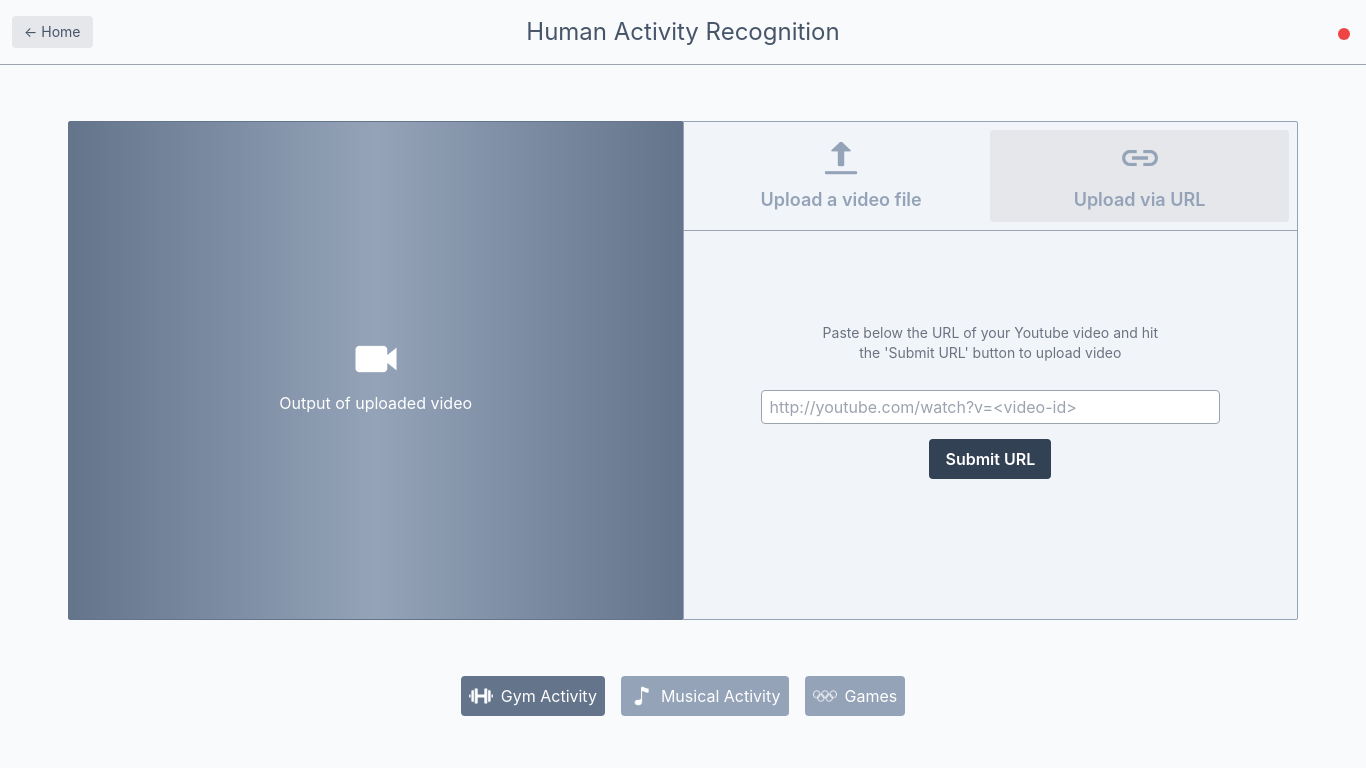
Test: Integration testing of render components › empty input in URL
What coordinates should you click on to do the following:
click the button "Submit URL"
I would click on:
 (990, 459)
Its box is [930,439,1051,479].
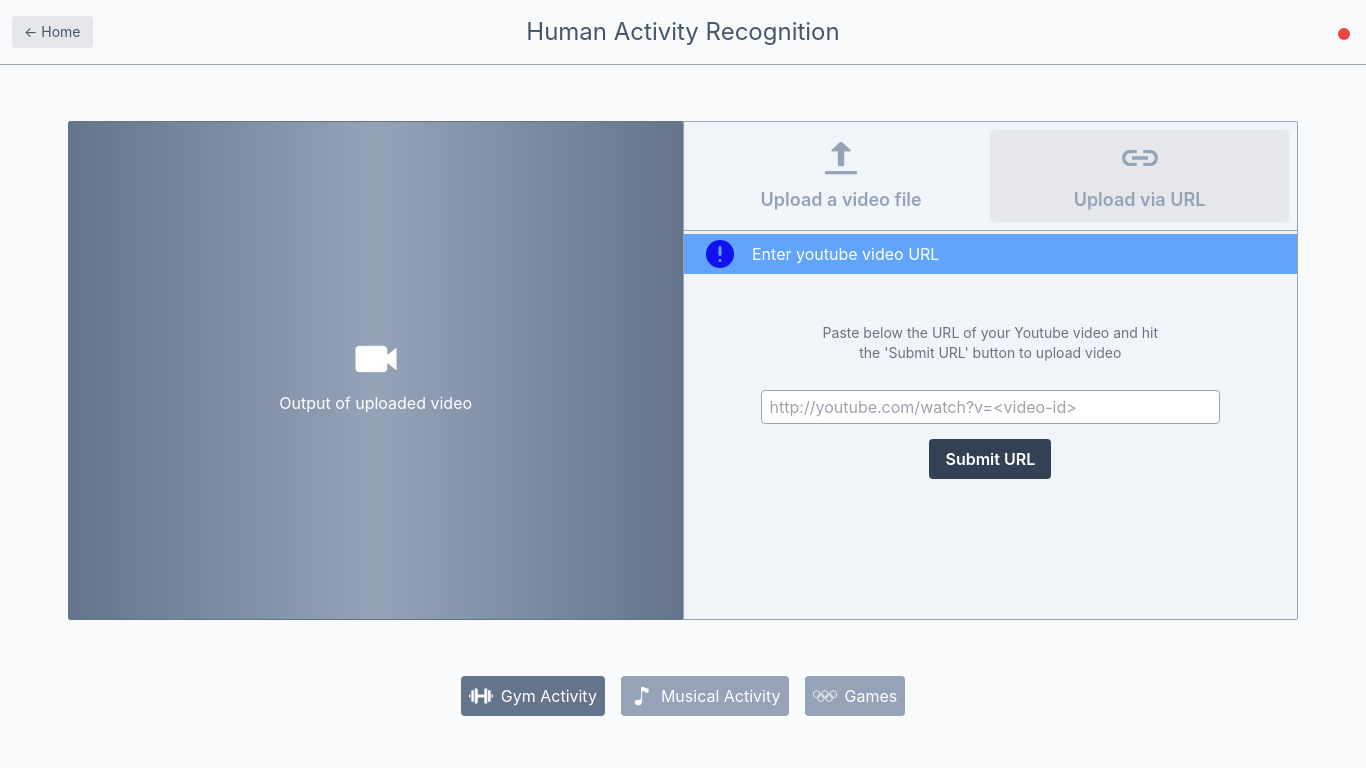
Expected: the element with test id "alertpopup" is shown, [684,234,1297,274]
Expected: the element with test id "alertpopup" reads "Enter youtube video URL", [752,244,939,264]
